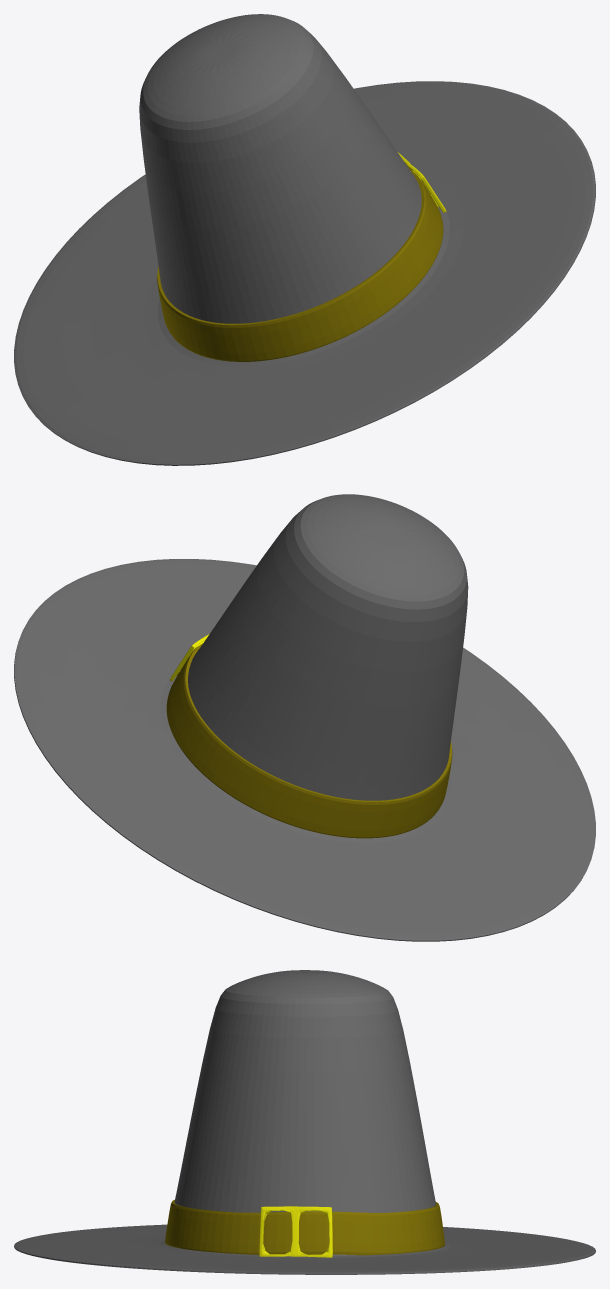
Rendered from hat2.dae.
3 renders of one model, top to bottom at view 1: azimuth 30°, elevation 25°; view 2: azimuth 150°, elevation 25°; view 3: azimuth 270°, elevation 25°, orthographic.
Parts seen in each view (by area): view 1: pilgrim_nc, Object002; view 2: pilgrim_nc, Object002; view 3: pilgrim_nc, Object002, Object001.
Part boxes in pixels (x1,y1,x2,y2): pilgrim_nc: (14, 14, 595, 465); Object002: (157, 163, 443, 361); pilgrim_nc: (14, 494, 595, 941); Object002: (166, 643, 452, 838); pilgrim_nc: (14, 970, 595, 1274); Object002: (165, 1200, 444, 1255); Object001: (259, 1206, 332, 1257).
Bounding box in the file's own units: 656 × 667 × 436.
